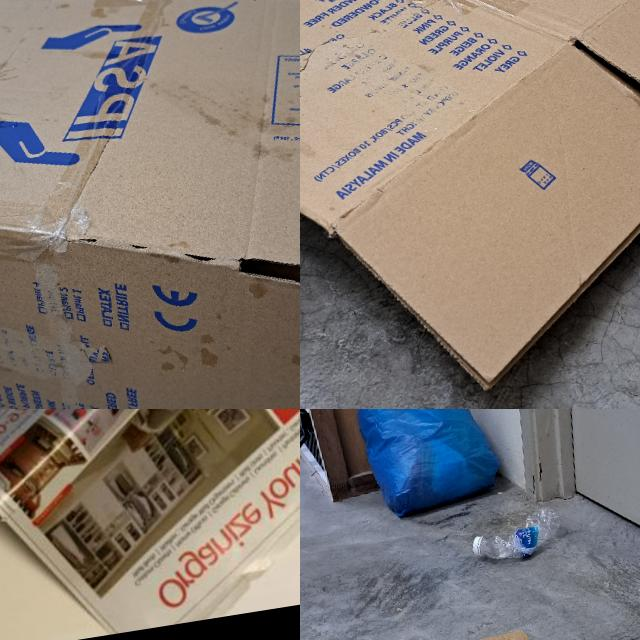garrafa plástica: (466, 504, 565, 572)
papel: (0, 409, 300, 640)
papelão: (300, 0, 640, 409), (0, 0, 300, 409)
sacola plástica: (350, 409, 505, 523)
tampa plástica: (467, 532, 488, 560)
